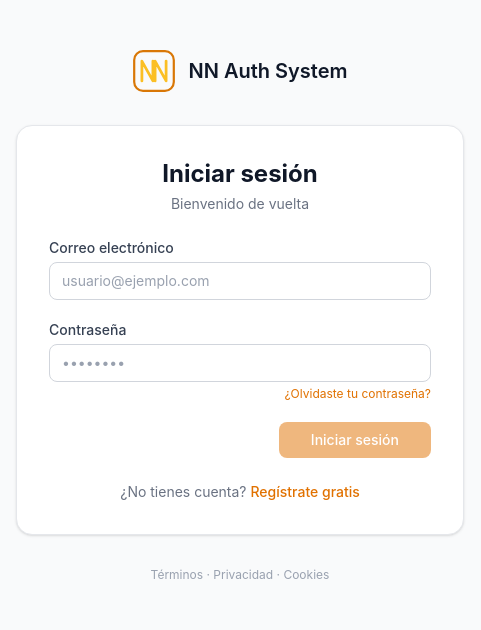
Test case: LoginPage › muestra alerta de error cuando login() falla
Type "malo@ejemplo.com" into the field labelled "Correo electrónico".
click(240, 281); type("malo@ejemplo.com")  # box top-left (49, 262), bottom-right (431, 300)
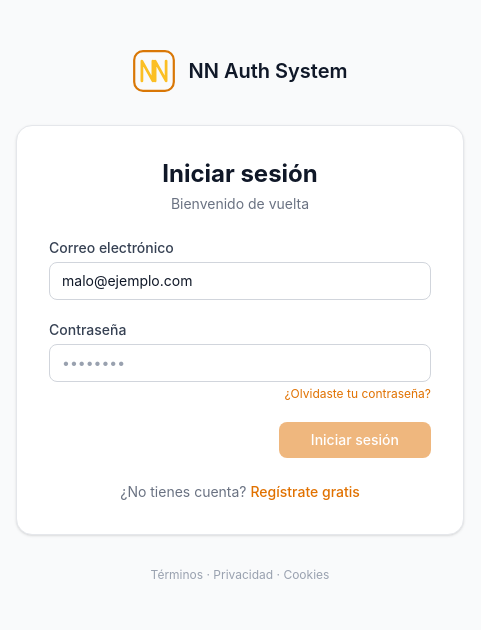
Type "WrongPass1" into the password field labelled "Contraseña".
click(240, 363); type("WrongPass1")  # box top-left (49, 344), bottom-right (431, 382)
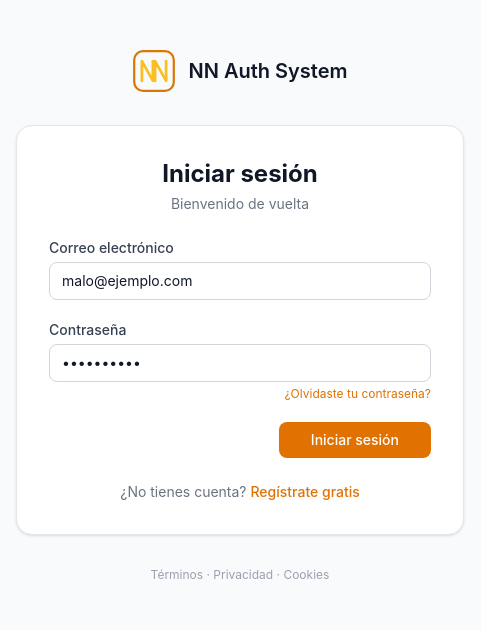
Click the button "Iniciar sesión".
click(355, 440)  # box top-left (279, 422), bottom-right (431, 458)
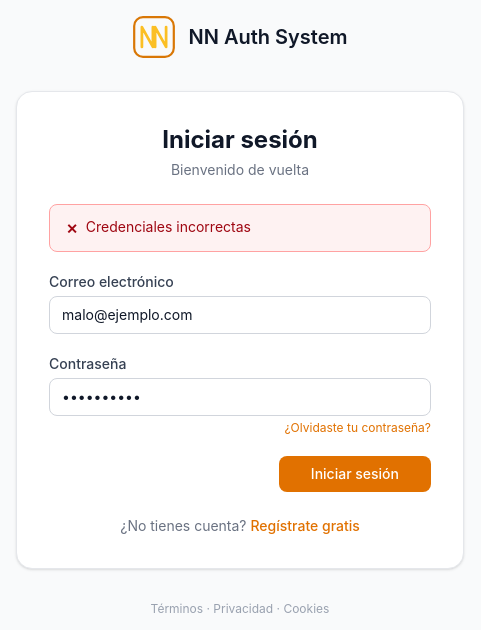
Expected: the message shows "Credenciales incorrectas", top-left (86, 218), bottom-right (251, 235)
